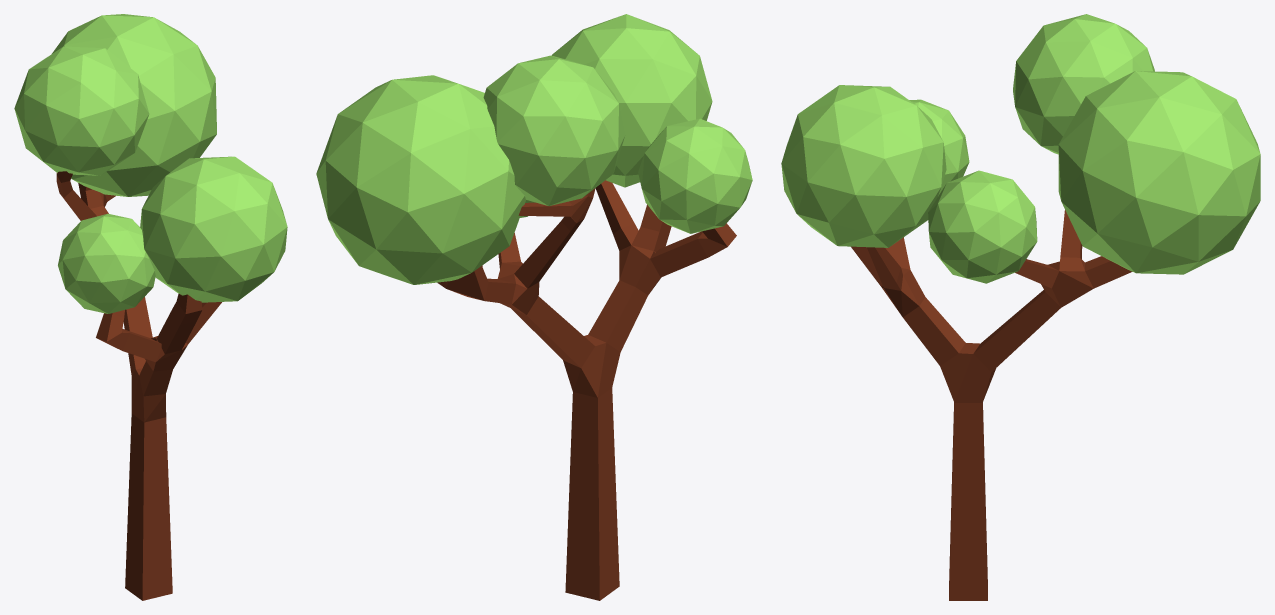
File: TreeWithLeaves.fbx
The picture shows the model from 3 angles, left to right: view 1: azimuth 30°, elevation 25°; view 2: azimuth 150°, elevation 25°; view 3: azimuth 270°, elevation 25°; orthographic projection. The views are drawn at different scales.
Visible parts, largest first — view 1: Icosphere.002, Tree, Icosphere.001, Icosphere, Icosphere.003; view 2: Icosphere.001, Tree, Icosphere, Icosphere.002, Icosphere.003; view 3: Icosphere.001, Icosphere.002, Tree, Icosphere, Icosphere.004, Icosphere.003.
Part boxes in pixels (x1,y1,x2,y2): Icosphere.002: [140, 156, 287, 302]; Tree: [56, 171, 221, 600]; Icosphere.001: [52, 14, 216, 196]; Icosphere: [14, 46, 149, 175]; Icosphere.003: [58, 213, 155, 313]; Icosphere.001: [316, 75, 525, 284]; Tree: [437, 180, 736, 600]; Icosphere: [483, 55, 625, 205]; Icosphere.002: [552, 14, 712, 187]; Icosphere.003: [638, 118, 752, 233]; Icosphere.001: [1058, 71, 1260, 274]; Icosphere.002: [781, 85, 946, 247]; Tree: [851, 210, 1132, 600]; Icosphere: [1013, 14, 1154, 154]; Icosphere.004: [928, 170, 1037, 283]; Icosphere.003: [909, 99, 969, 196].
Size of the model in its own units: 399 by 771 by 594.
